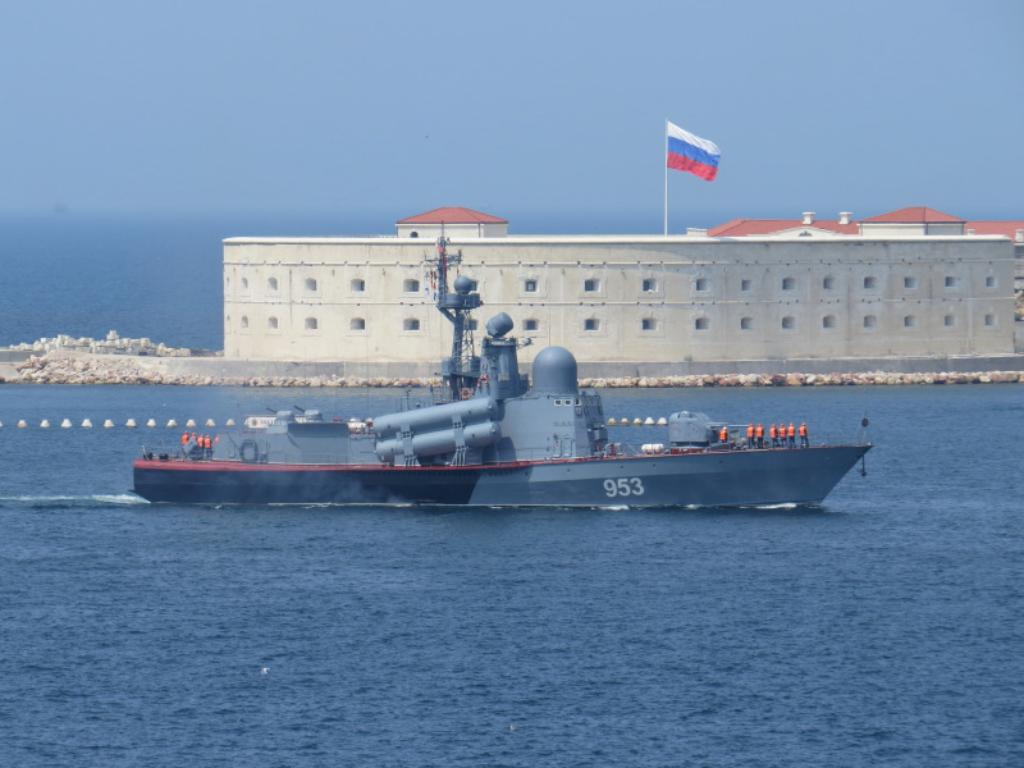Warship: (128, 222, 874, 508)
